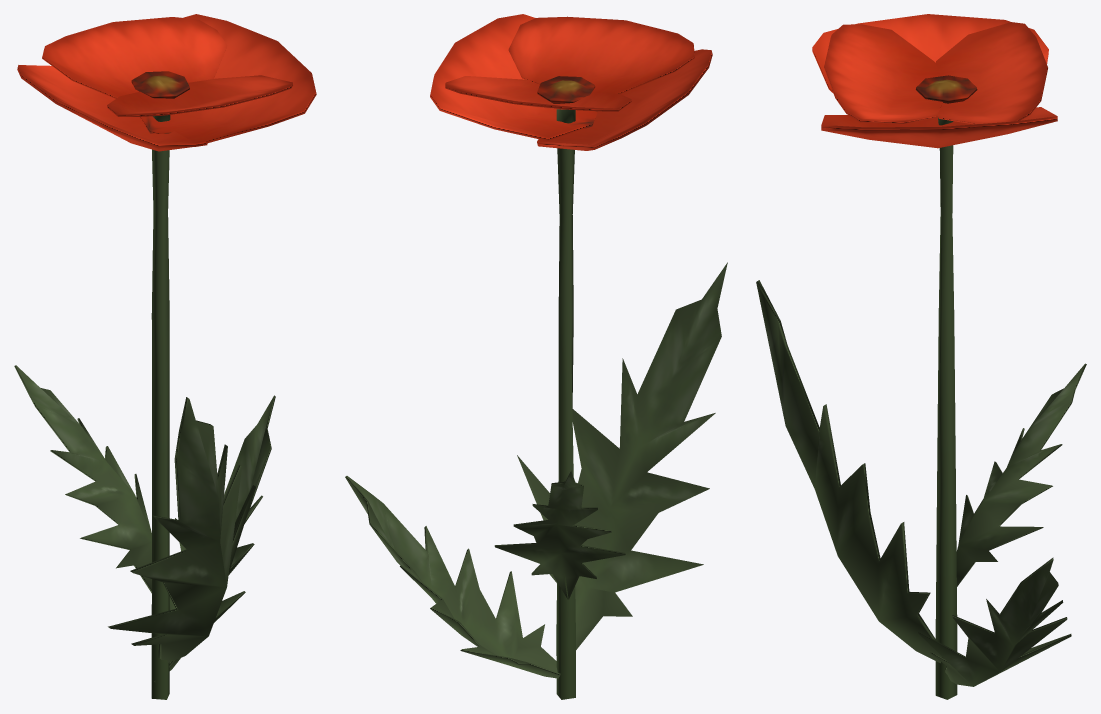
Rendered from WildFlower_Papaver.fbx.
3 views of the same model, side by side, from view 1: azimuth 30°, elevation 25°; view 2: azimuth 150°, elevation 25°; view 3: azimuth 270°, elevation 25° (orthographic).
Visible parts, largest first — view 1: WildFlower_Papaver; view 2: WildFlower_Papaver; view 3: WildFlower_Papaver.
Boxes of the visible parts, left/top/right/bottom form: WildFlower_Papaver: left=14, top=14, right=316, bottom=699; WildFlower_Papaver: left=345, top=14, right=727, bottom=699; WildFlower_Papaver: left=756, top=14, right=1086, bottom=699.
Bounding box in the file's own units: 15.27 × 32.94 × 15.56.
